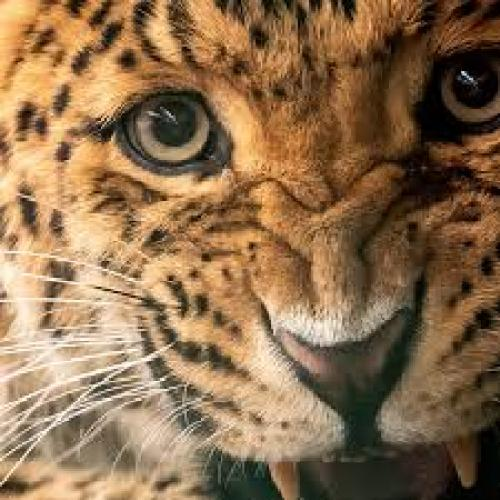jaguar_not-endangered: (7, 10, 482, 469)
